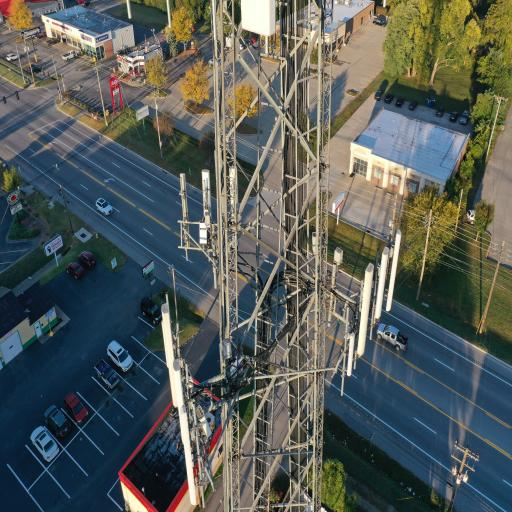supporting_tower: (166, 1, 427, 512)
